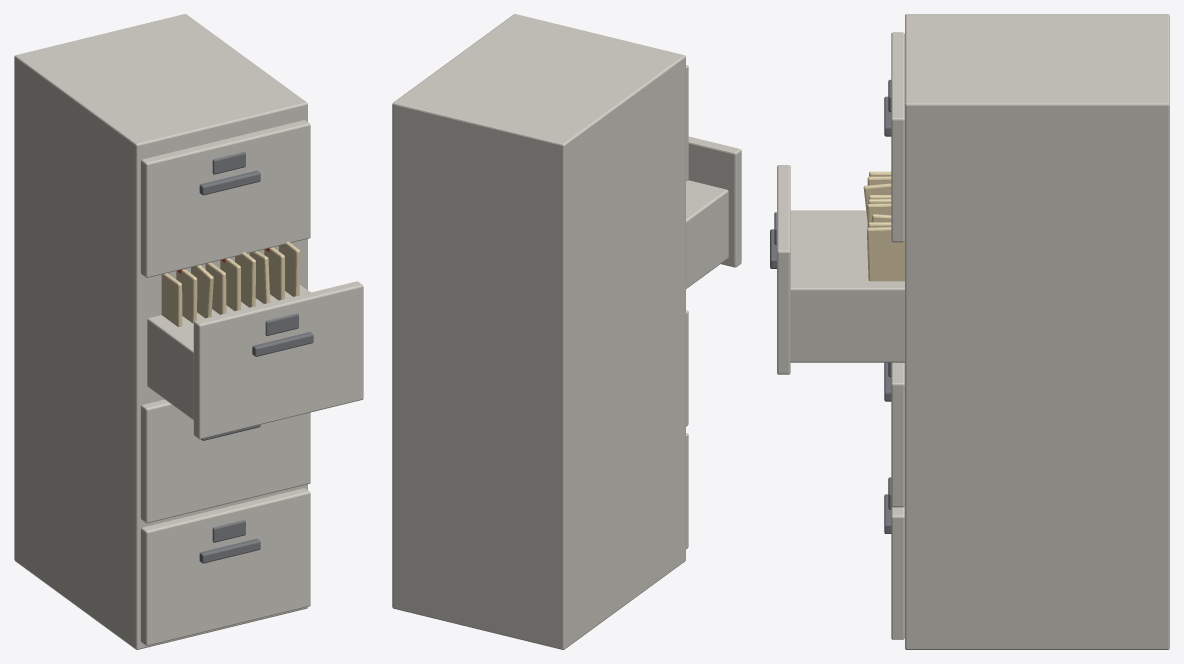
File: filing_cabinet.glb
3 views of the same model, side by side, from view 1: azimuth 30°, elevation 25°; view 2: azimuth 150°, elevation 25°; view 3: azimuth 270°, elevation 25° (orthographic). The views are drawn at different scales.
Parts seen in each view (by area): view 1: filing_cabinet; view 2: filing_cabinet; view 3: filing_cabinet.
Part boxes in pixels (x1,y1,x2,y2): filing_cabinet: (14,14,363,649); filing_cabinet: (392,14,741,649); filing_cabinet: (770,14,1169,649).
Size of the model in its own units: 0.47 by 1.32 by 0.875.
